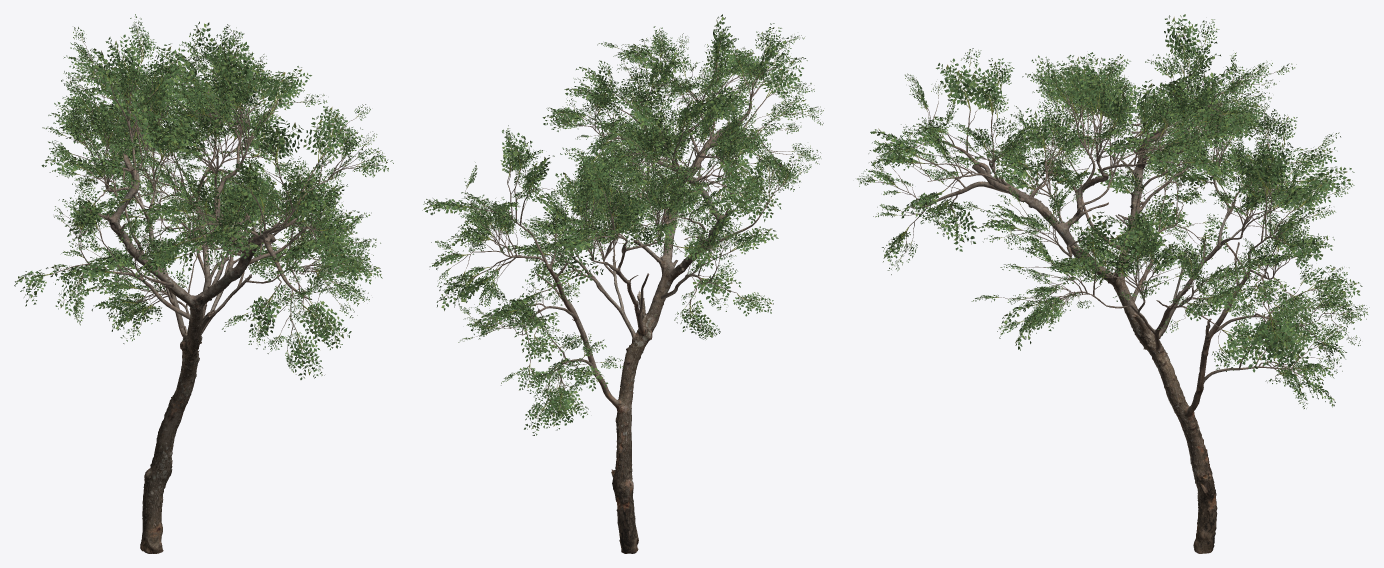
3 views of the same model, side by side, from view 1: azimuth 30°, elevation 25°; view 2: azimuth 150°, elevation 25°; view 3: azimuth 270°, elevation 25° (orthographic). The views are drawn at different scales.
Visible parts, largest first — view 1: tree_small_02_LOD0.002, tree_small_02_LOD0.001, tree_small_02_LOD0; view 2: tree_small_02_LOD0.002, tree_small_02_LOD0, tree_small_02_LOD0.001; view 3: tree_small_02_LOD0.002, tree_small_02_LOD0.001, tree_small_02_LOD0.
Boxes of the visible parts, bbox=[...] form: tree_small_02_LOD0.002: bbox=[14, 14, 393, 379]; tree_small_02_LOD0.001: bbox=[43, 32, 373, 361]; tree_small_02_LOD0: bbox=[82, 153, 296, 553]; tree_small_02_LOD0.002: bbox=[422, 14, 823, 435]; tree_small_02_LOD0: bbox=[532, 121, 742, 553]; tree_small_02_LOD0.001: bbox=[449, 40, 810, 404]; tree_small_02_LOD0.002: bbox=[857, 14, 1369, 408]; tree_small_02_LOD0.001: bbox=[867, 44, 1355, 386]; tree_small_02_LOD0: bbox=[972, 123, 1250, 553].
Bounding box in the file's own units: 2.92 × 4.56 × 4.28.
Materials: 3 (3 with a texture image).
